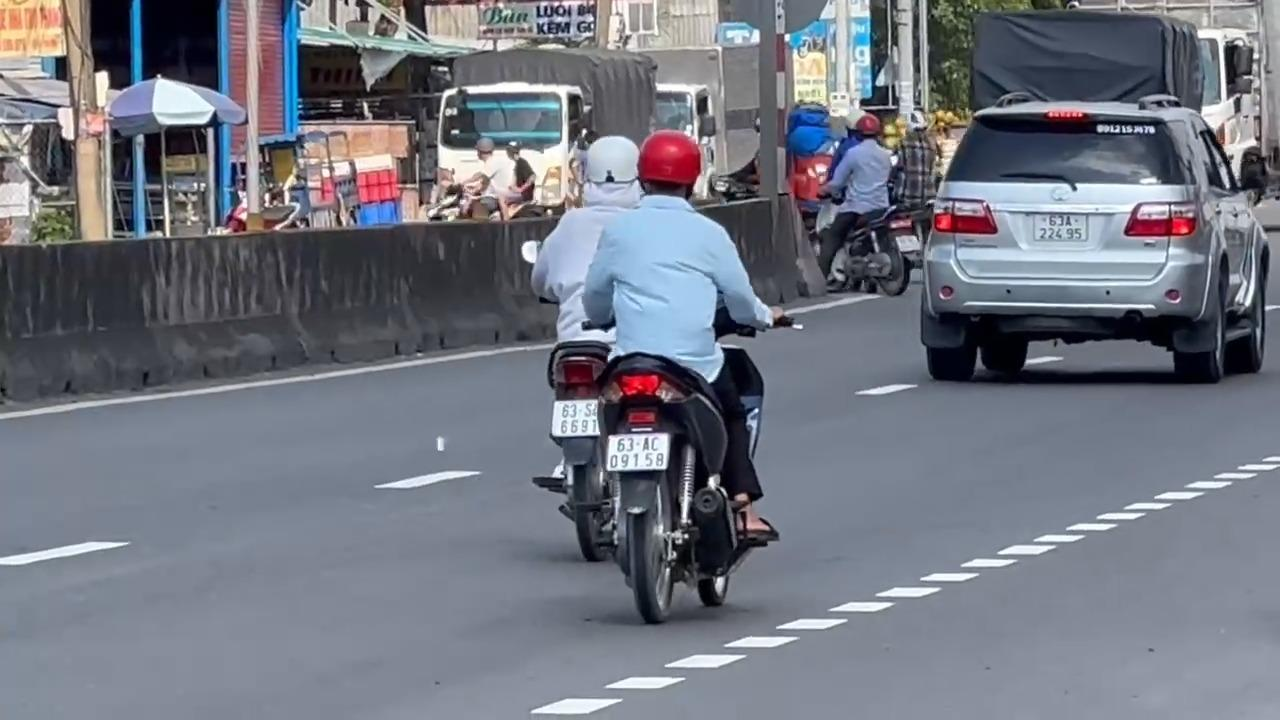bien_so: (604, 431, 670, 472), (550, 398, 600, 438), (1030, 211, 1089, 242)
